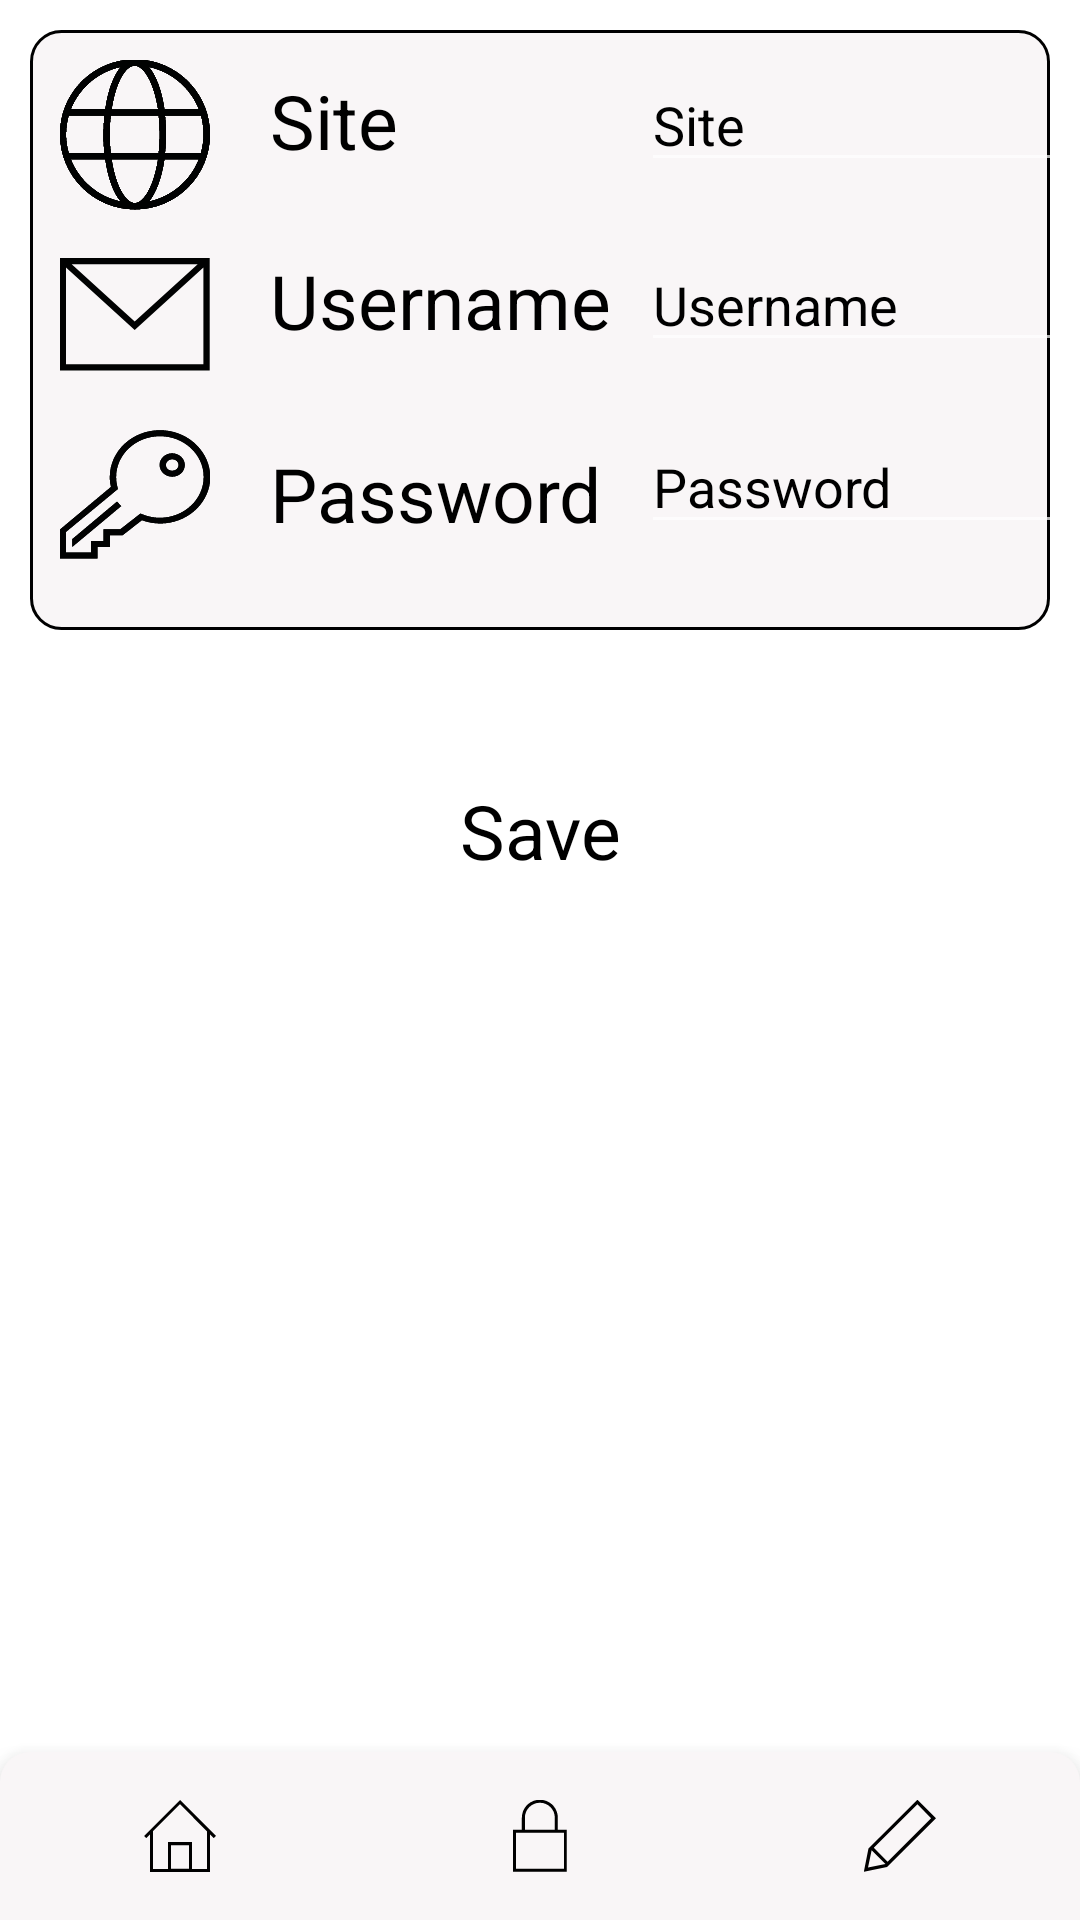

Screen size 1080w x 1920h. Icon name, then its center in pixels as point (x, y):
key: point (135, 494)
mail: point (135, 314)
